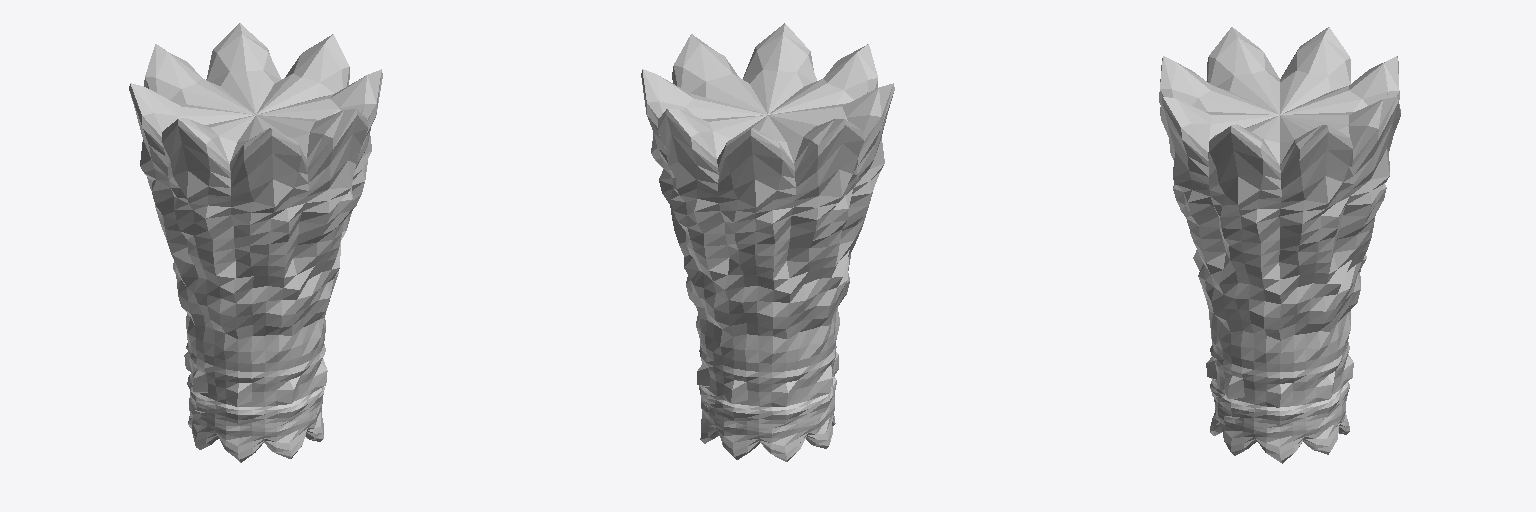
The model's file is grandma_hairstick_tip_lopoly.OBJ.
3 renders of one model, left to right at view 1: azimuth 30°, elevation 25°; view 2: azimuth 150°, elevation 25°; view 3: azimuth 270°, elevation 25°, orthographic.
Parts seen in each view (by area): view 1: Group3; view 2: Group3; view 3: Group3.
Boxes of the visible parts, box(x1,y1,x2,y2) form: Group3: box(129, 23, 382, 462); Group3: box(641, 23, 894, 461); Group3: box(1159, 27, 1400, 463).
Size of the model in its own units: 0.1724 by 0.2824 by 0.1724.